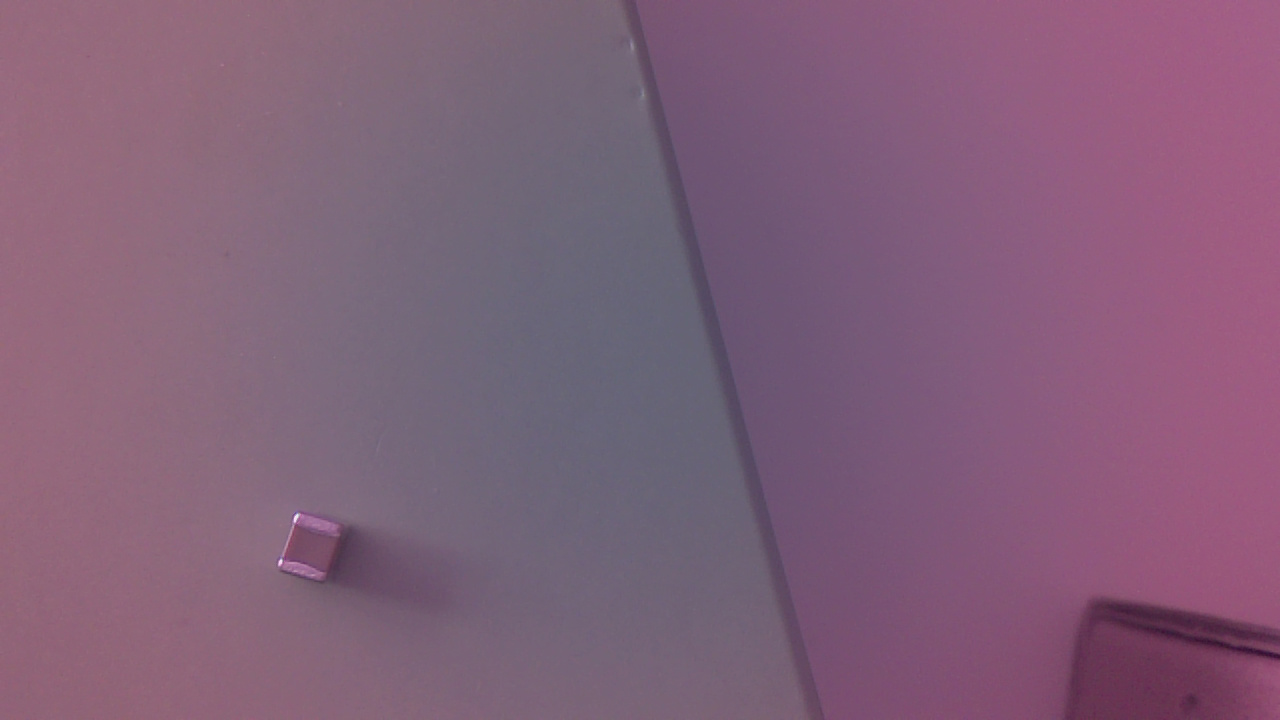Condensator: (277, 512, 359, 593)
